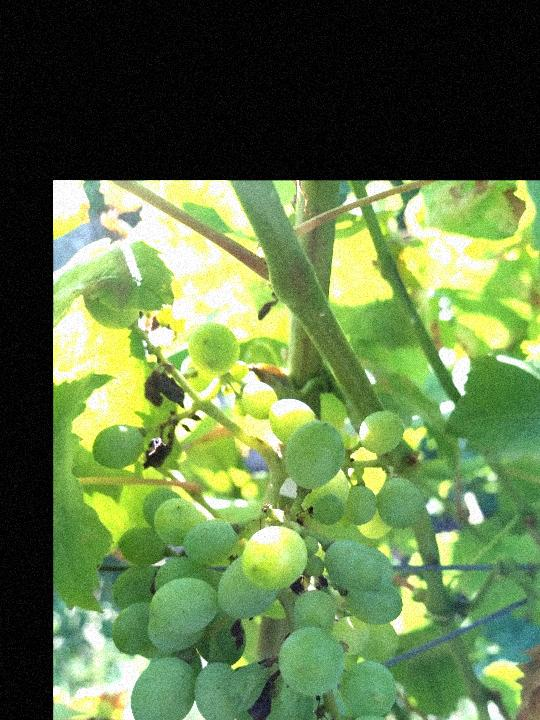grape: (81, 295, 433, 720)
